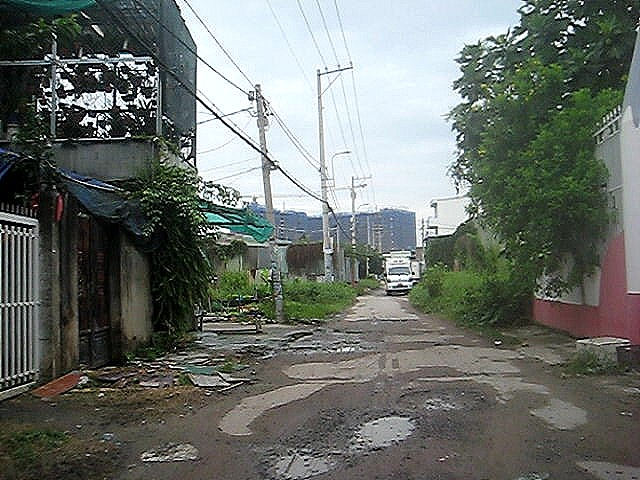hole: (250, 439, 347, 480), (344, 411, 423, 454), (395, 386, 492, 416), (137, 435, 208, 464), (287, 340, 372, 355), (339, 316, 419, 324), (318, 327, 372, 337)
